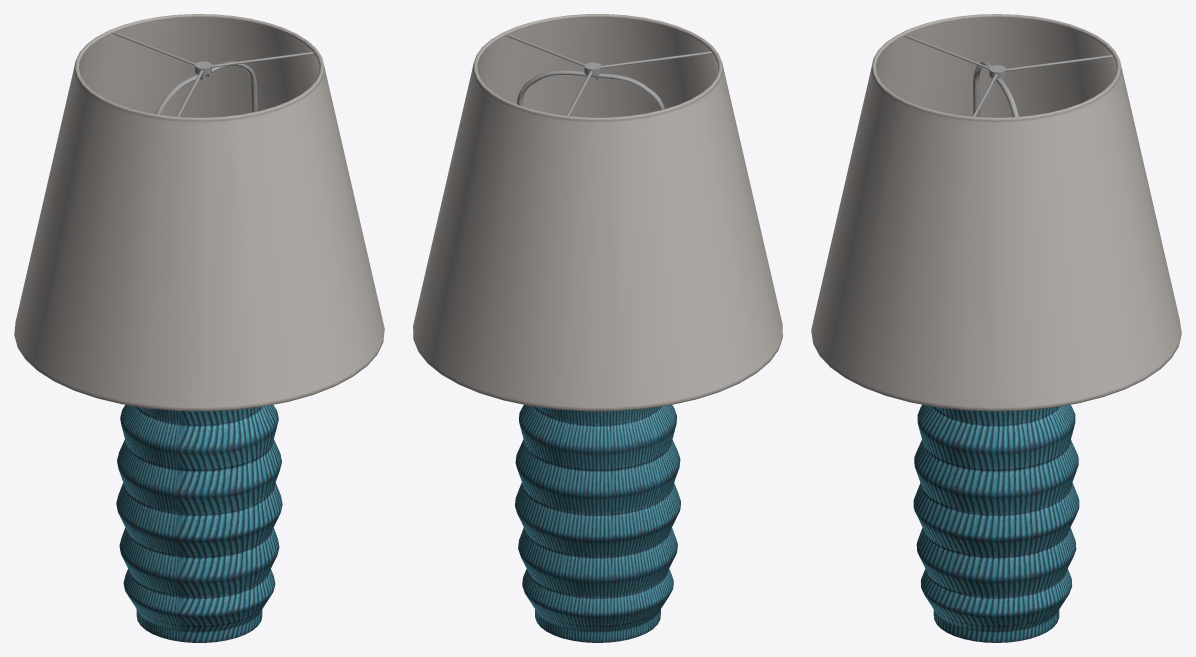
Rendered from abo-B07B4W2GY1.glb.
The picture shows the model from 3 angles, left to right: view 1: azimuth 30°, elevation 25°; view 2: azimuth 150°, elevation 25°; view 3: azimuth 270°, elevation 25°; orthographic projection.
Size of the model in its own units: 0.355 by 0.582 by 0.355.
Materials: 1 (1 with a texture image).
